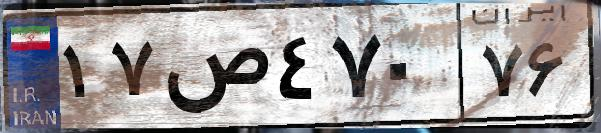0: (385, 28, 445, 110)
1: (57, 26, 110, 100)
4: (270, 28, 330, 110)
6: (525, 38, 570, 115)
7: (330, 28, 385, 110), (475, 38, 525, 113), (110, 28, 158, 98)
ص: (158, 20, 270, 120)
